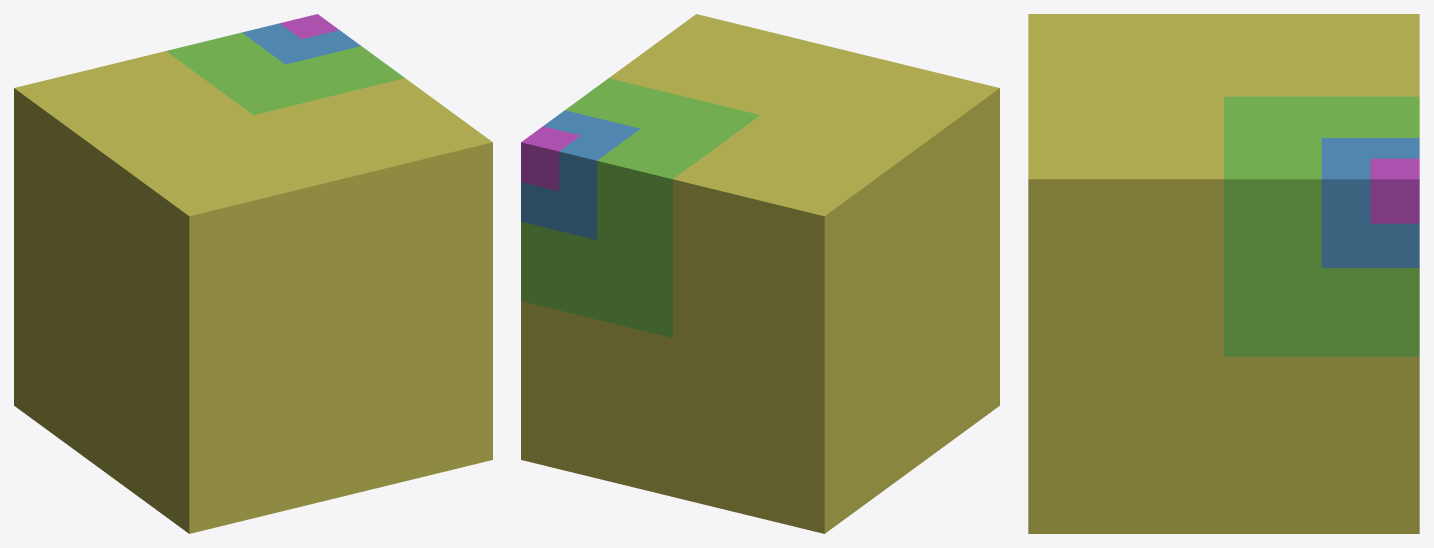
File: octree.glb
3 views of the same model, side by side, from view 1: azimuth 30°, elevation 25°; view 2: azimuth 150°, elevation 25°; view 3: azimuth 270°, elevation 25° (orthographic). The views are drawn at different scales.
Visible parts, largest first — view 1: Cube; view 2: Cube; view 3: Cube.
Boxes of the visible parts, x1,y1,x2,y2 form: Cube: (14, 14, 492, 533); Cube: (521, 14, 999, 533); Cube: (1028, 14, 1419, 533).
Bounding box in the file's own units: 2 × 2 × 2.
